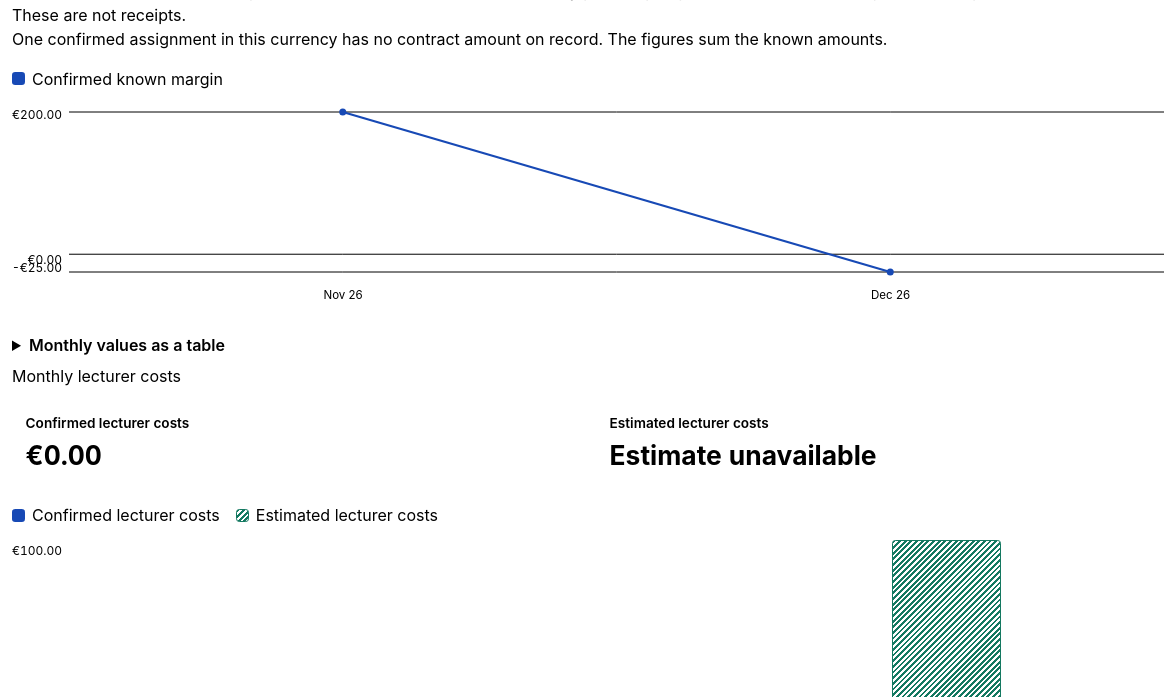
it: shows known platform margin as a signed period total, with a missing-revenue warning
The width and height of the screenshot is (1176, 697).
(page scrolled)
Expected: the text "has no contract amount" is shown, [12,29,888,49]
Step 1. Click the heading "Monthly values as a table" → click(127, 345), box [29,335,225,355]
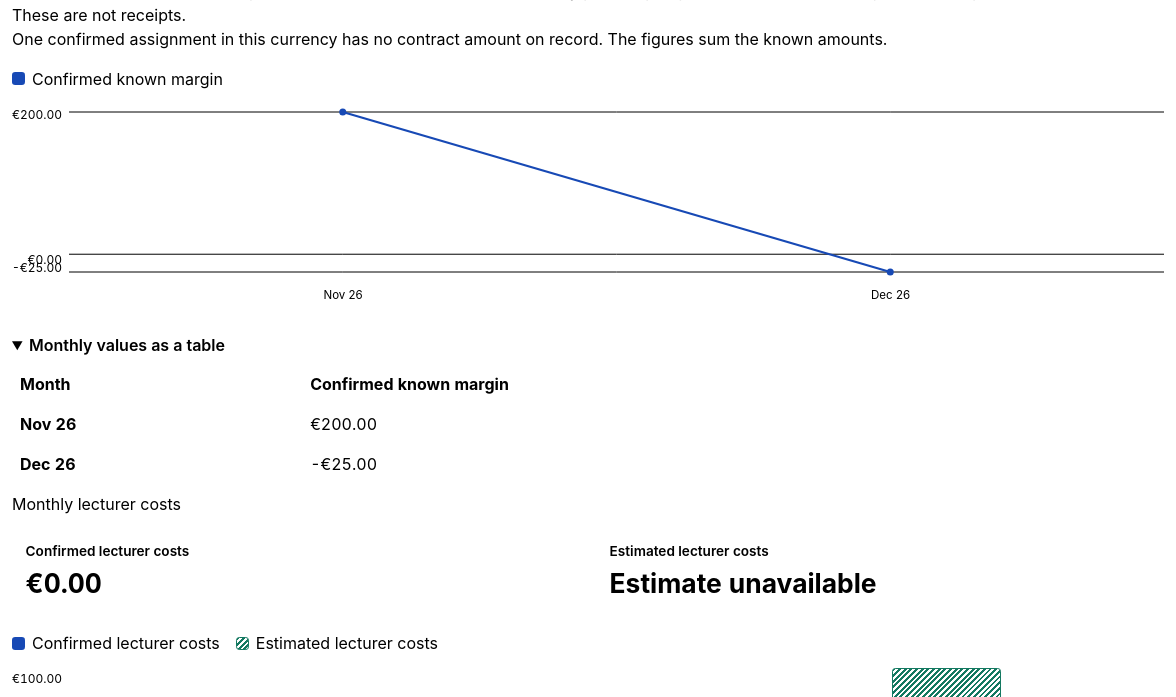
Now the text "-€25.00" is shown, box [302,444,1164,484]
